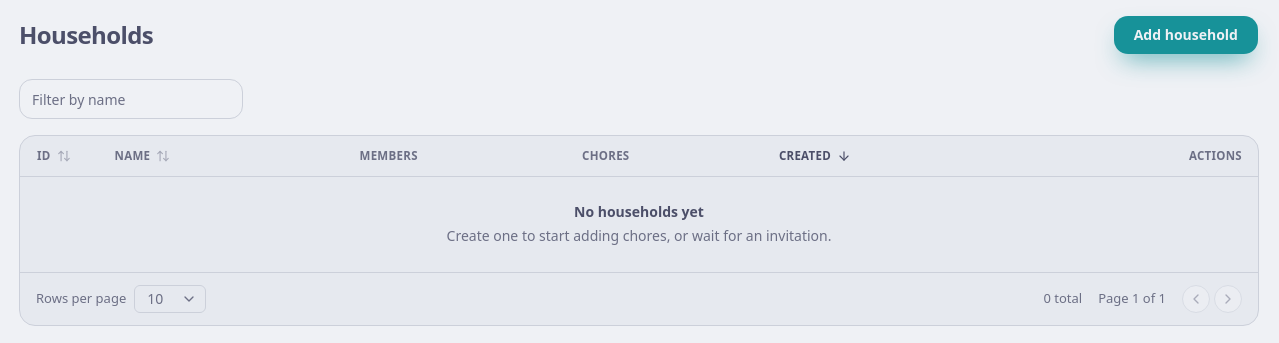
Test: Households › falls back to the generic empty message when a name filter matches nothing
The image size is (1279, 343).
Expected: the text "No households yet" is shown, [574, 202, 704, 221]
Type "zzz" into the field with placeholder "Filter by name" at (131, 99), box [19, 79, 243, 119]
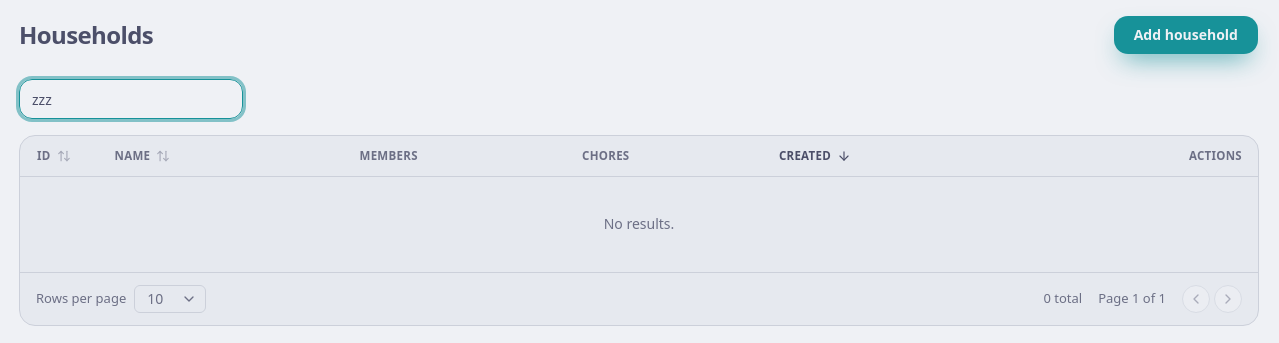
Expected: the text "No results." is shown, [20, 176, 1258, 272]
Expected: the text "No households yet" is gone
